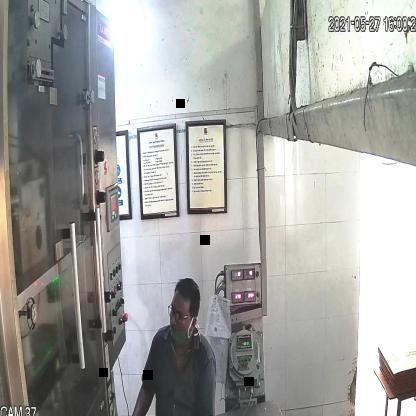goggles: (165, 299, 197, 326)
